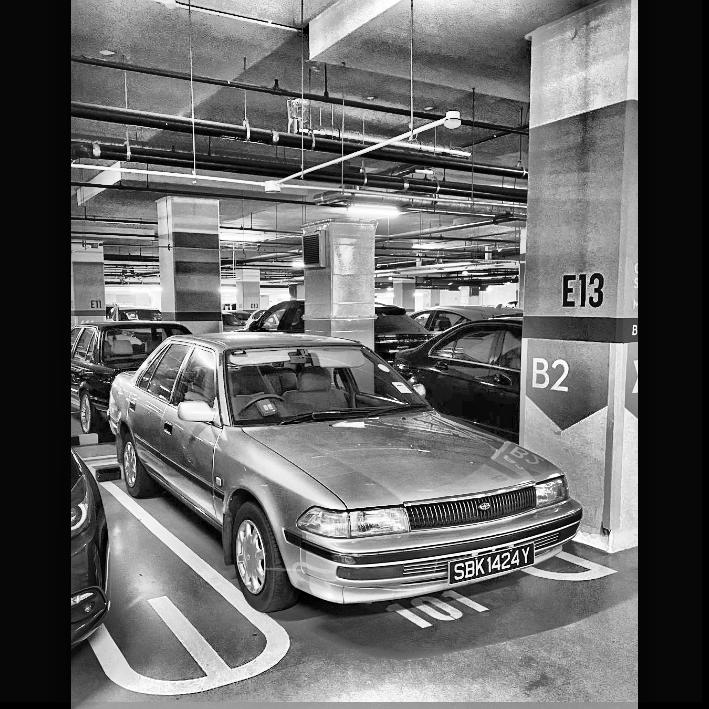License-Plates: (448, 543, 533, 584)
